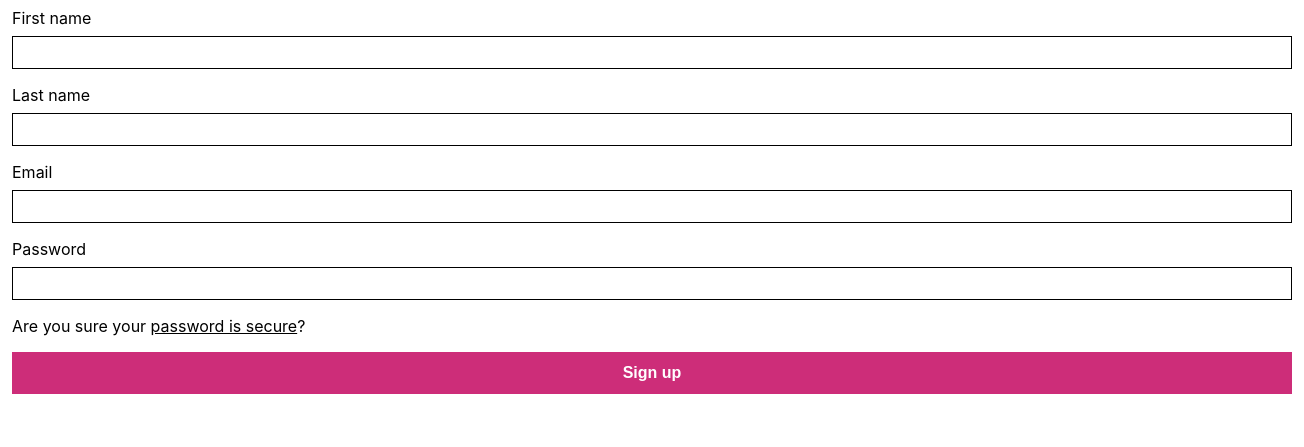
Test: Displays the error message of signUp if it throws an error
Click the button "Sign up" at x=652, y=373, box [12,352,1292,394]
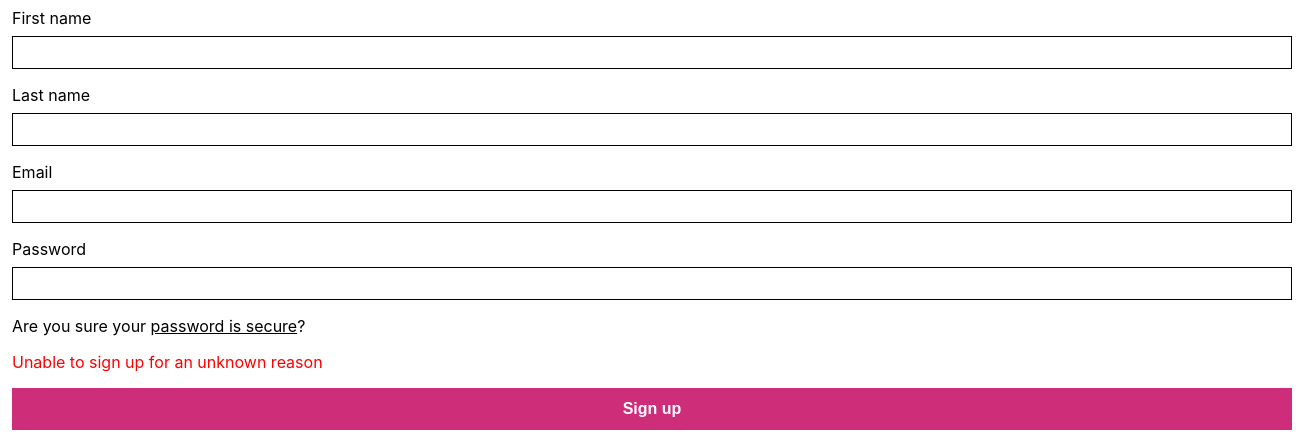
Check: the text "Unable to sign up for an unknown reason" is shown, box [12,352,323,372]
